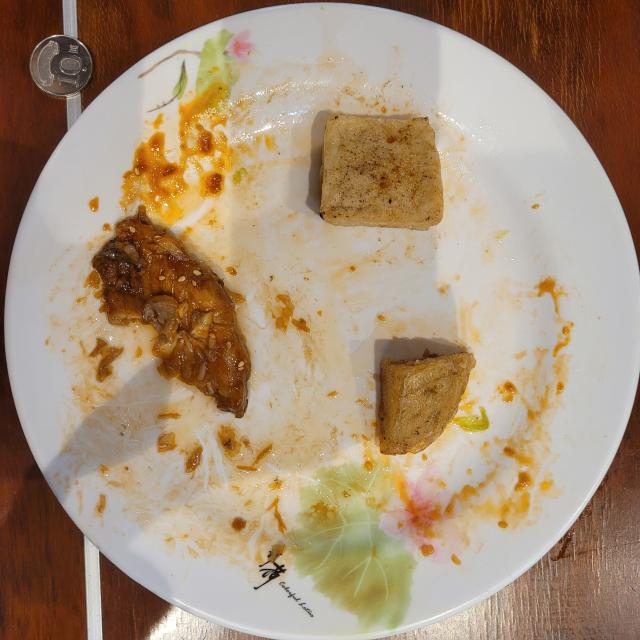Kabayaki sea bream fillet: (92, 211, 251, 418)
coin: (30, 35, 92, 98)
creamy tofu -without sauce-: (320, 114, 444, 230)
fried potato: (379, 352, 476, 455)
